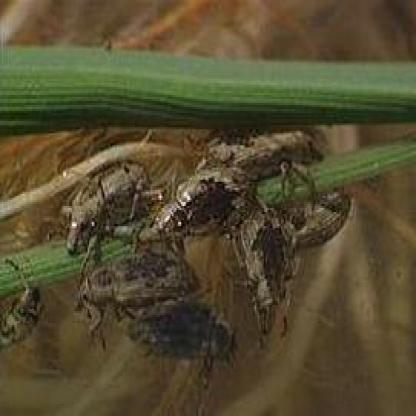rice-bug: (58, 123, 358, 385), (0, 279, 43, 349)
